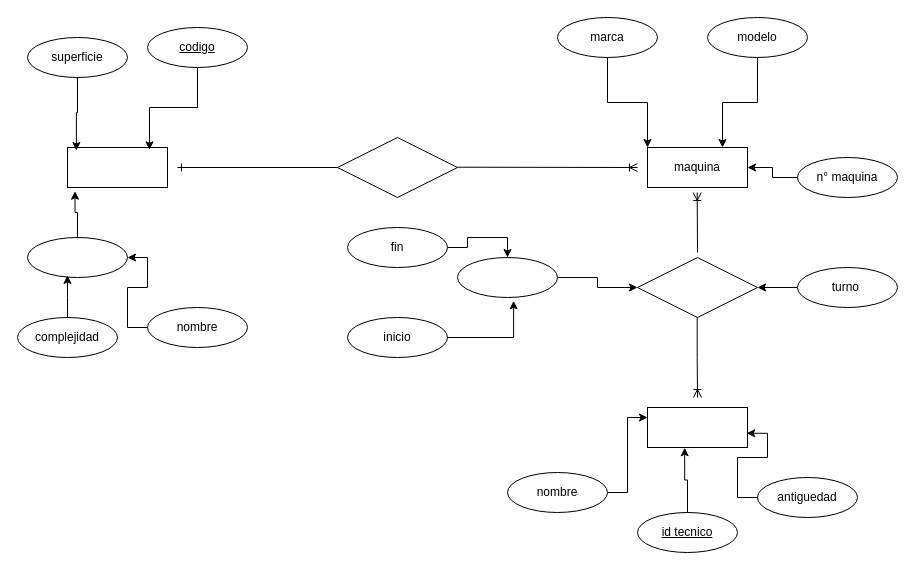
Some shapes in this 915 by 570 pixel diagram are drawn without their labels. Each missing label, with the box of its shape:
fecha: (456, 256, 558, 298)
opera: (636, 256, 758, 318)
planta: (66, 146, 168, 188)
posee: (336, 136, 458, 198)
procesos: (26, 236, 128, 278)
tecnico: (646, 406, 748, 448)
